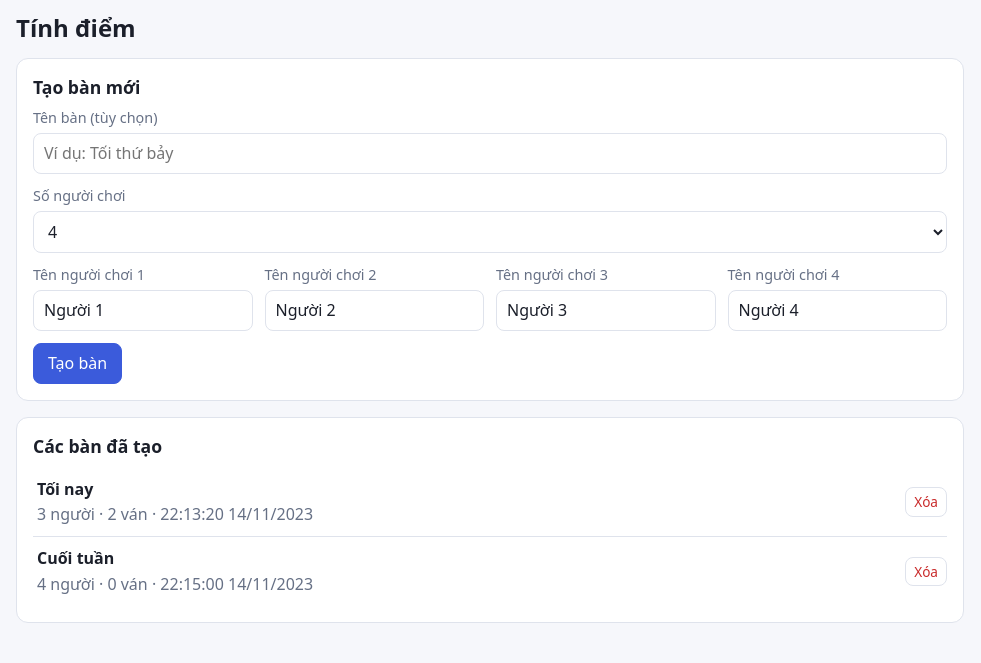
Test: HomePage deleting a game › keeps the game and shows the server error when deleting fails
What coordinates should you click on to do the following:
click the button with aria-label "Xóa bàn Tối nay"
I would click on:
 (926, 502)
Its box is top-left (905, 487), bottom-right (947, 517).
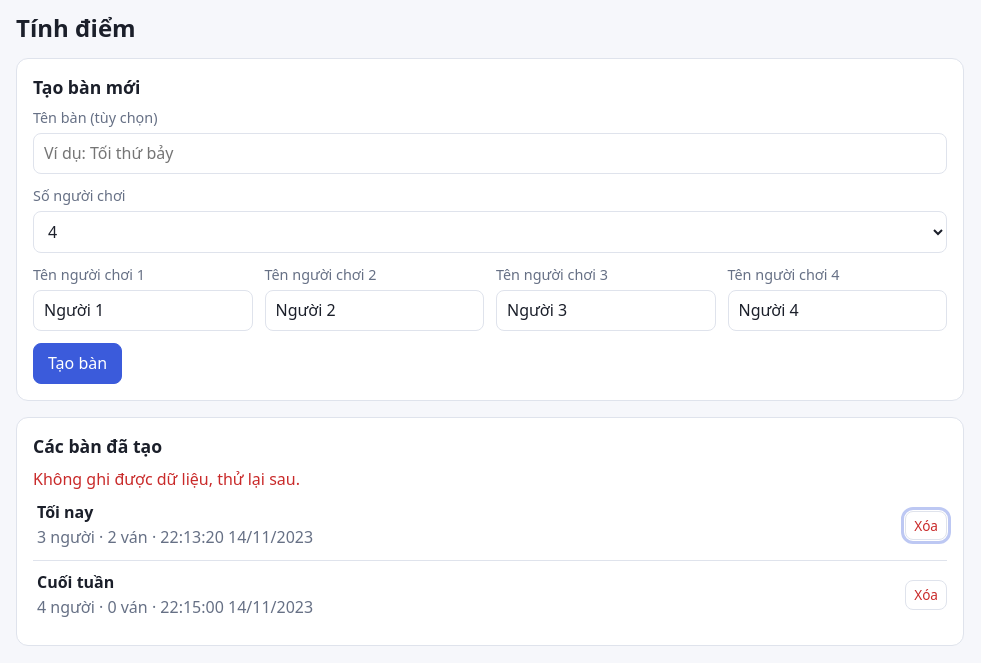
Expected: the link "Tối nay 3 người · 2 ván · 22:13:20 14/11/2023" is shown, top-left (37, 501), bottom-right (313, 548)
Expected: the message reads "Không ghi được dữ liệu, thử lại sau.", top-left (33, 468), bottom-right (300, 490)
